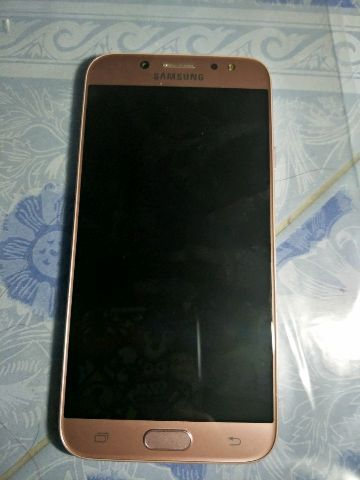Phone: (55, 50, 282, 464)
